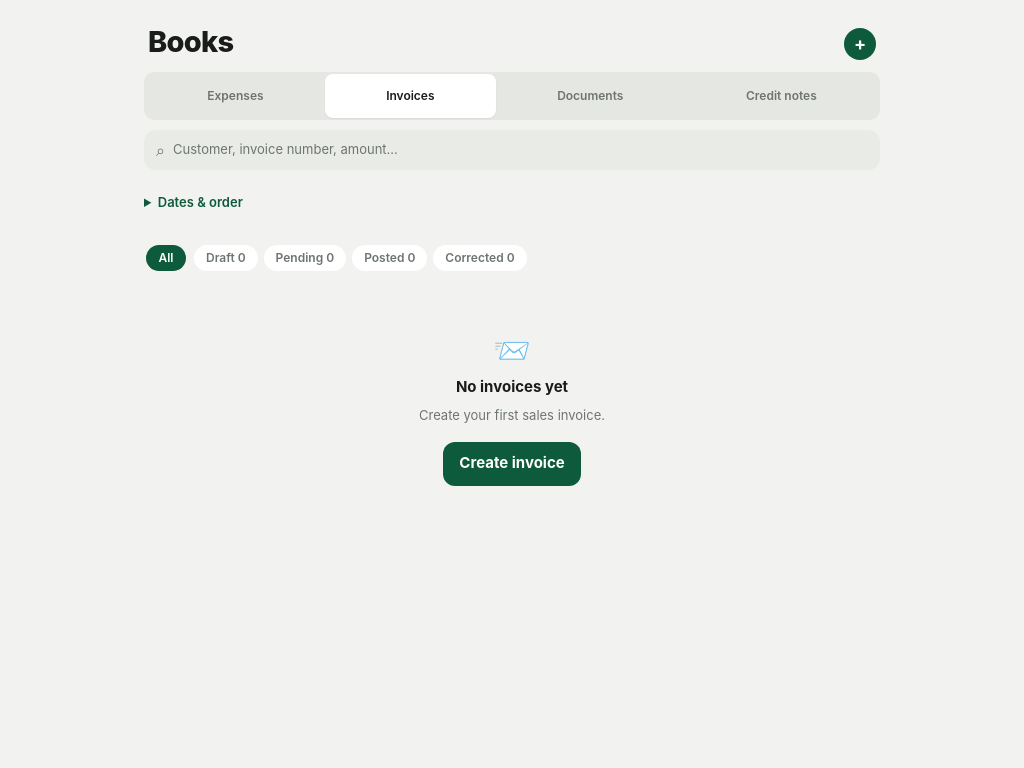
Test: Books empty states (issue #280) › Invoices initial empty opens the new-invoice sheet
The width and height of the screenshot is (1024, 768).
Click the button "Create invoice".
click(512, 464)  # box [443,442,581,486]
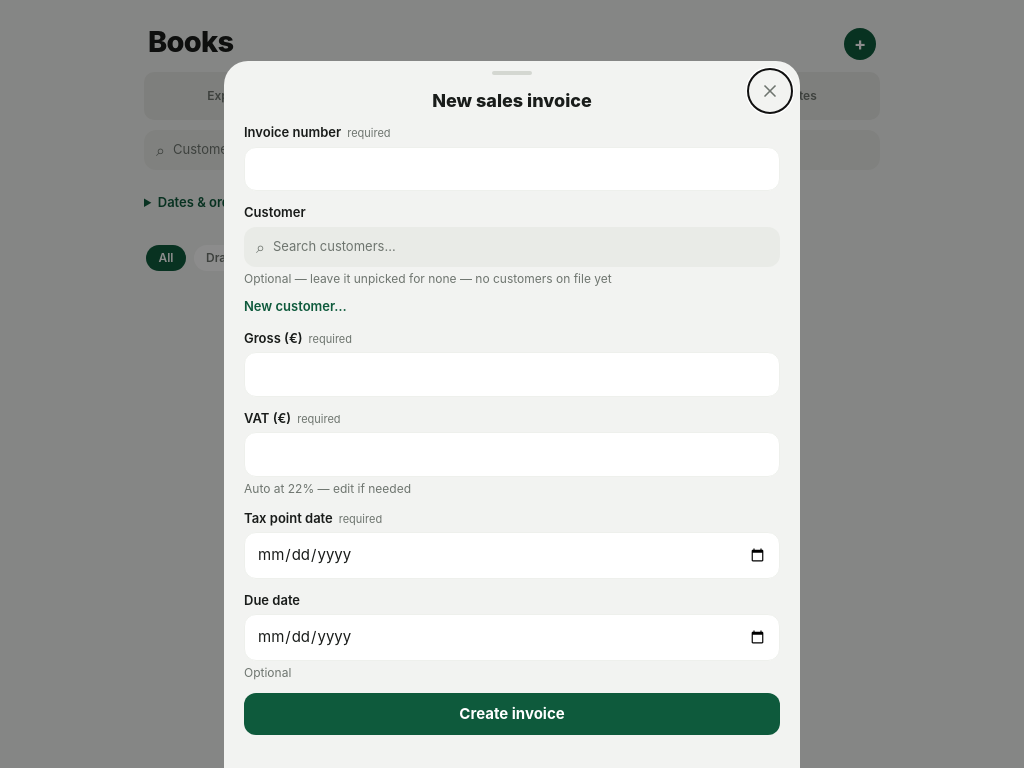
Check: the dialog "New sales invoice" is shown, box [224,62,800,767]
